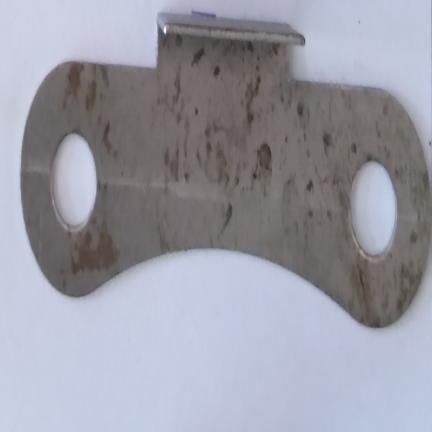karat: (245, 76, 261, 124), (85, 234, 111, 260), (68, 63, 83, 97), (258, 143, 271, 170), (221, 204, 232, 234), (86, 80, 96, 110), (170, 147, 179, 180), (102, 123, 110, 153), (173, 70, 180, 103), (192, 48, 204, 66), (323, 133, 331, 155), (101, 66, 109, 86), (83, 231, 92, 247), (71, 258, 79, 274), (246, 41, 254, 53), (410, 231, 417, 243), (297, 102, 303, 116), (306, 180, 313, 191), (206, 142, 211, 157), (176, 35, 182, 46), (205, 125, 210, 138), (351, 143, 356, 154), (383, 104, 388, 115), (273, 44, 278, 54), (113, 150, 118, 160), (214, 66, 219, 76), (165, 149, 168, 165), (308, 209, 313, 218), (176, 114, 181, 123), (97, 181, 101, 192), (327, 211, 331, 221), (185, 173, 189, 181), (306, 149, 310, 157), (195, 108, 198, 115), (285, 135, 287, 142), (429, 141, 431, 146)
